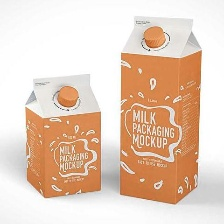carton: (114, 10, 207, 206), (20, 69, 105, 199)
